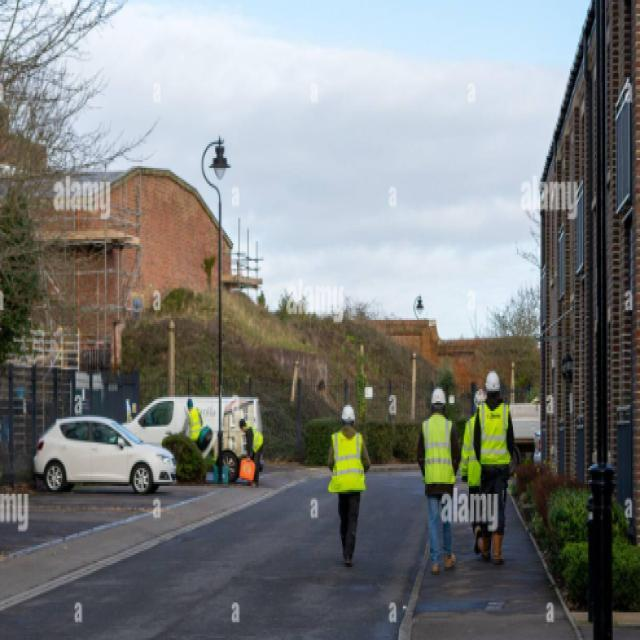hard_hat: (484, 369, 502, 395), (340, 404, 356, 430), (431, 387, 447, 413), (474, 387, 489, 411)
shoes: (479, 531, 507, 567), (472, 521, 494, 555), (428, 550, 458, 574), (338, 545, 362, 569), (252, 481, 262, 489)
vest: (460, 412, 500, 488), (421, 412, 457, 487), (328, 430, 368, 494), (479, 400, 512, 467), (244, 420, 266, 454), (186, 407, 202, 441)
